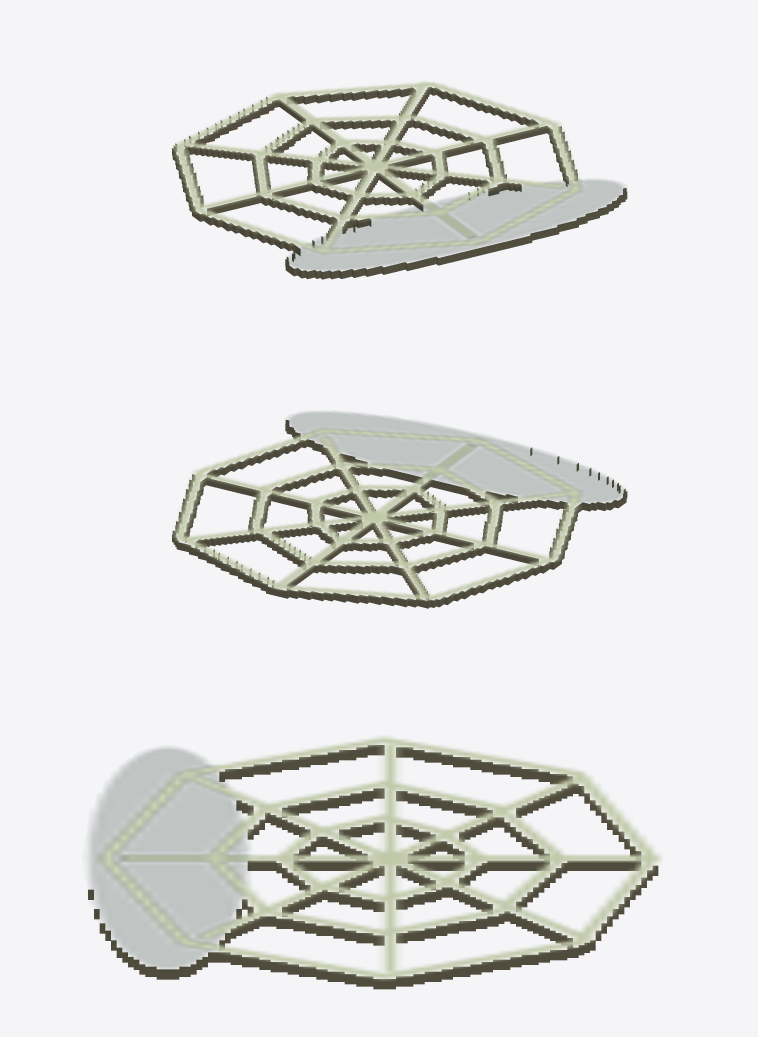
The model's file is Web.glb.
3 views of the same model, one above another, from view 1: azimuth 30°, elevation 25°; view 2: azimuth 150°, elevation 25°; view 3: azimuth 270°, elevation 25° (orthographic). The views are drawn at different scales.
Parts seen in each view (by area): view 1: Visual; view 2: Visual; view 3: Visual.
Boxes of the visible parts, bbox=[...] form: Visual: bbox=[172, 81, 627, 279]; Visual: bbox=[172, 412, 627, 608]; Visual: bbox=[88, 736, 662, 989].
Bounding box in the file's own units: 1.28 × 0.02 × 1.28.
3 materials, 2 textured.
